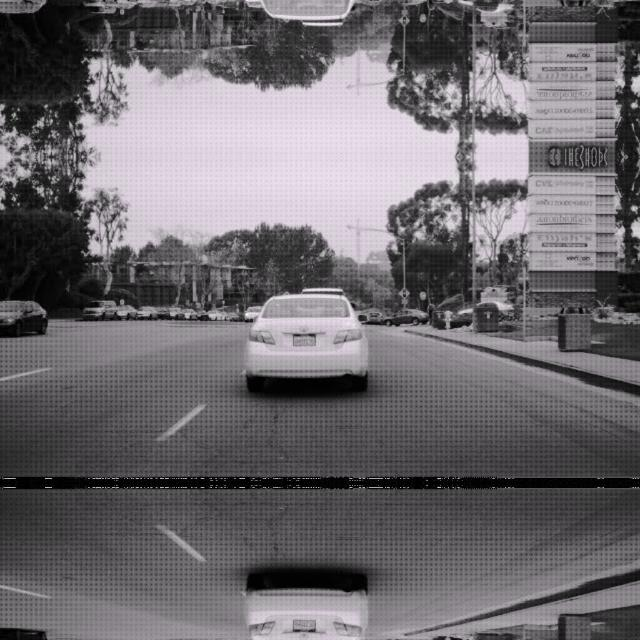signalAhead: (398, 284, 410, 298), (398, 15, 410, 28)
